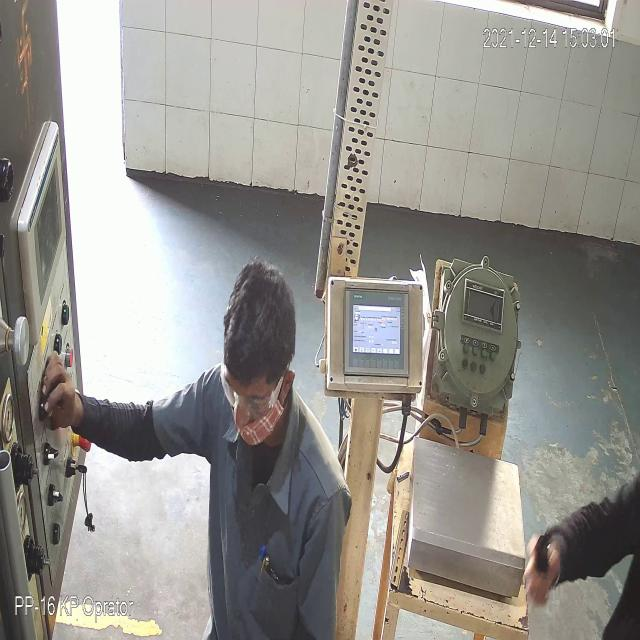glasses: (218, 368, 282, 414)
